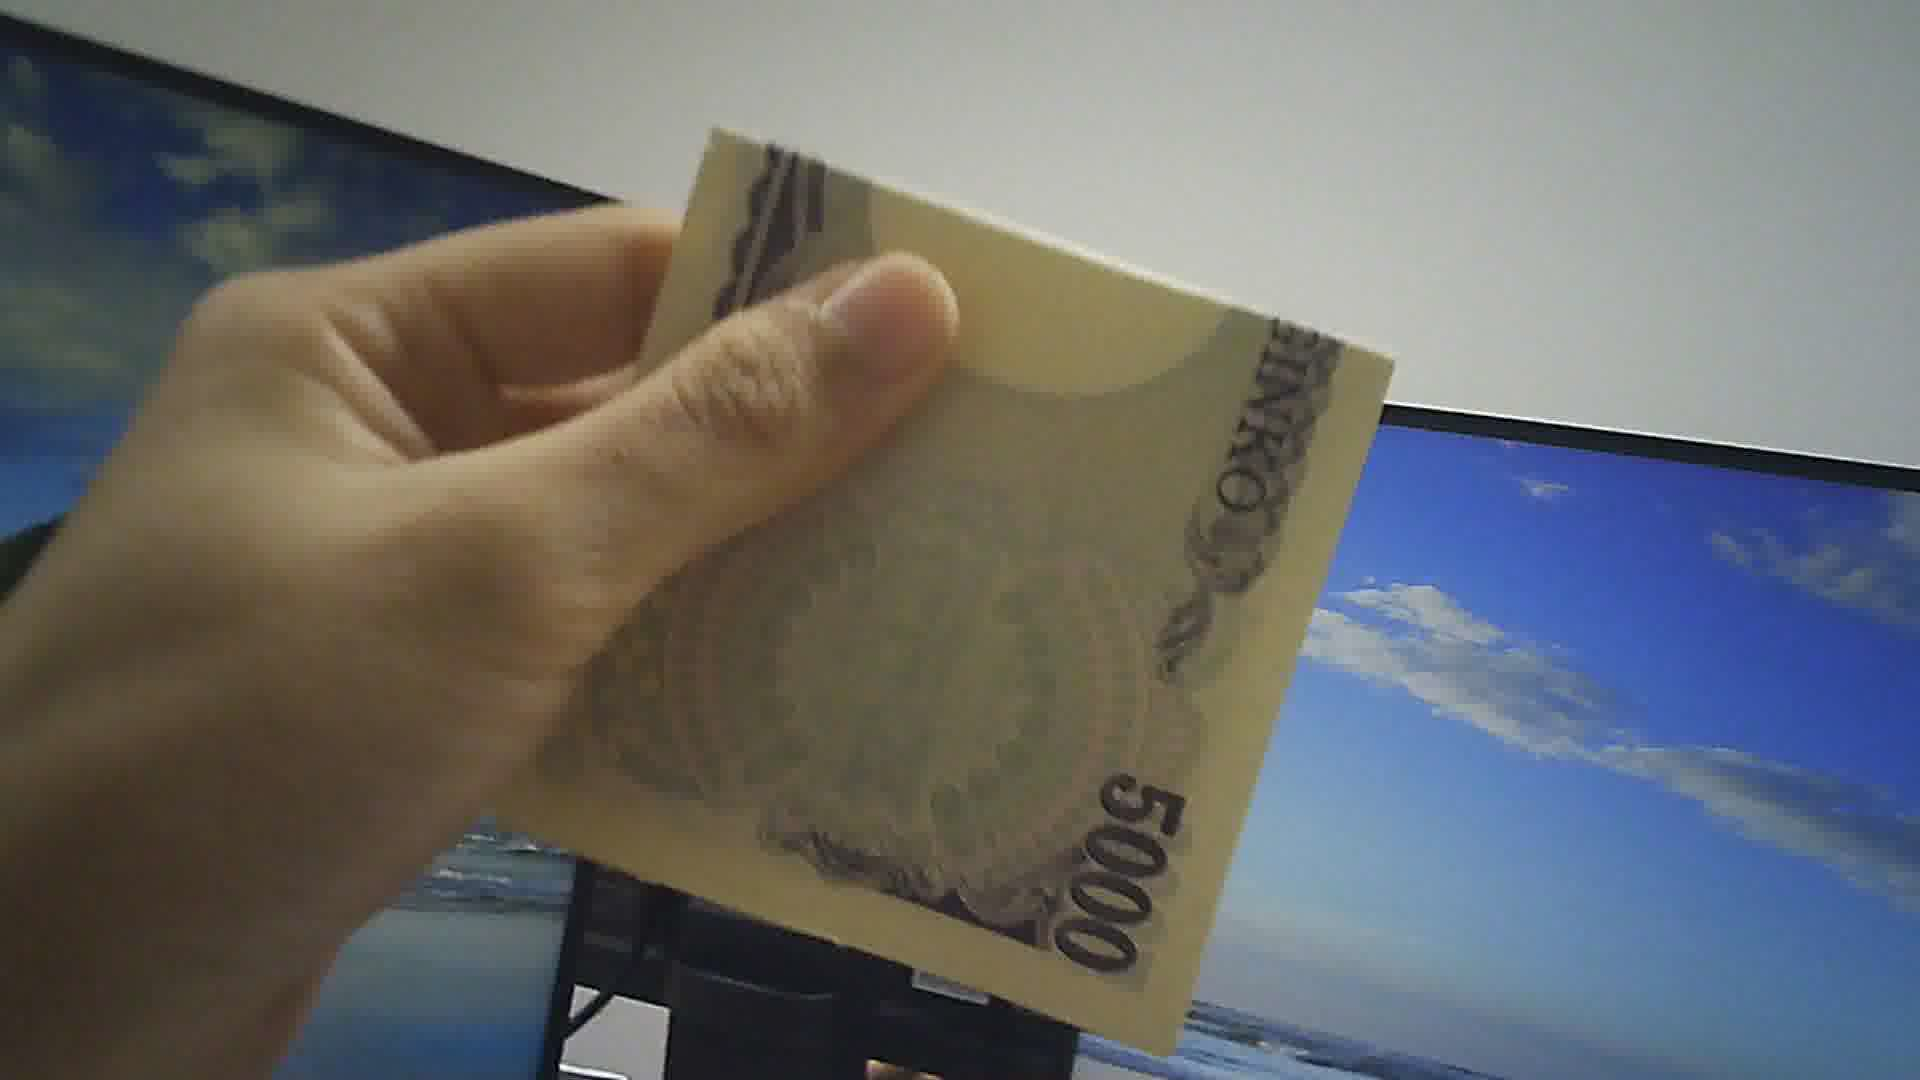5,000 Yen: (524, 115, 1398, 1052)
